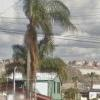Palm tree: (19, 1, 68, 90)
